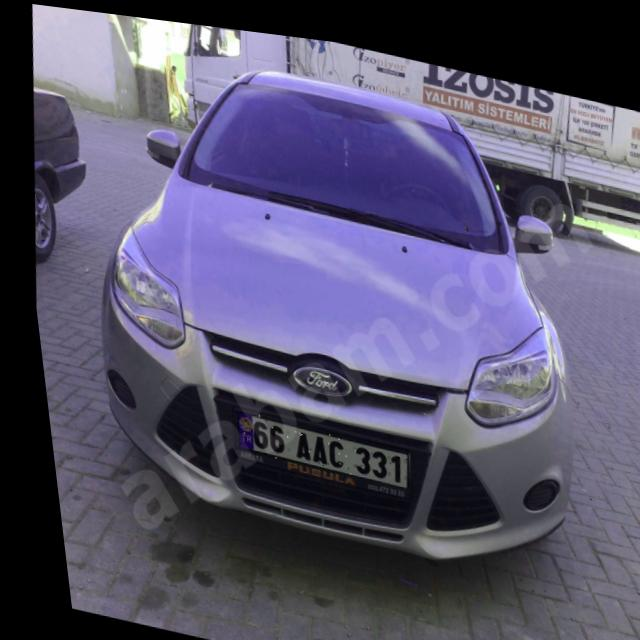license_plate: (220, 404, 402, 479)
